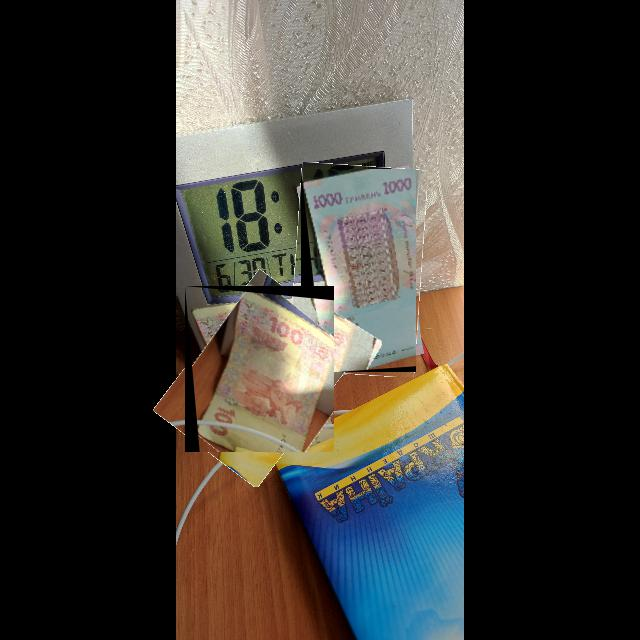1000uah: (303, 169, 417, 371)
100uah: (196, 291, 335, 453)
